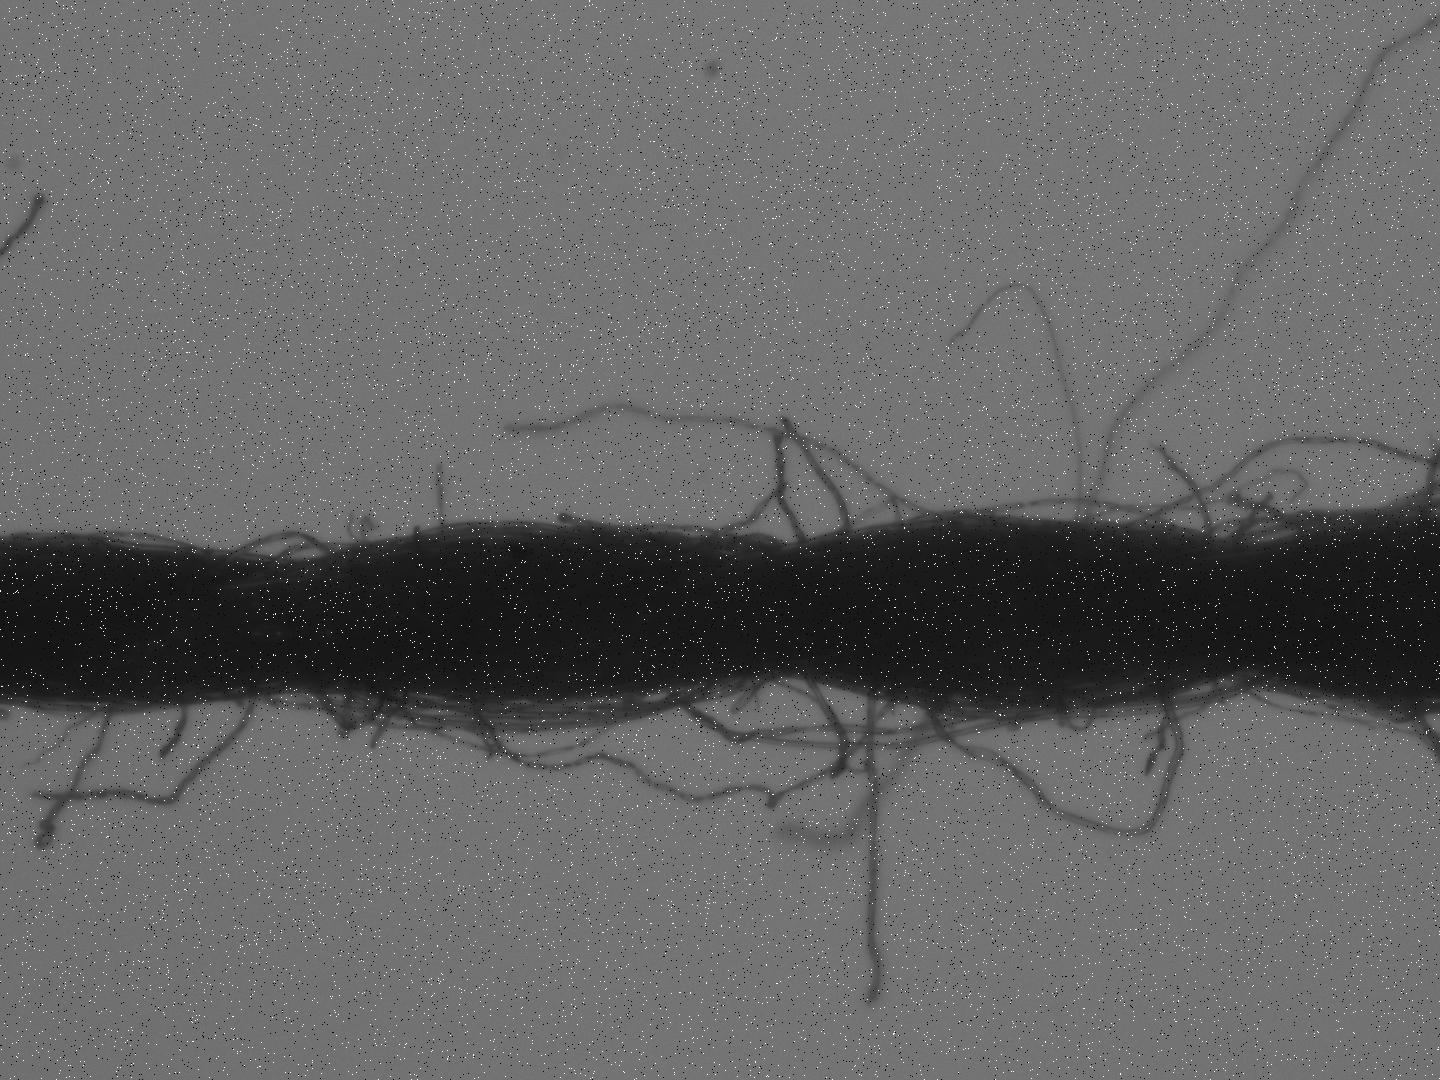loop_fiber: (469, 681, 849, 810), (691, 677, 1267, 751), (927, 687, 1188, 839), (265, 678, 729, 736), (685, 680, 990, 743), (397, 689, 639, 763), (1214, 506, 1411, 548), (982, 496, 1188, 533), (231, 530, 337, 564), (317, 686, 390, 735), (1239, 513, 1308, 552), (281, 541, 367, 566)
protruding_fiber: (1075, 14, 1440, 525), (503, 402, 948, 523), (32, 693, 262, 807), (35, 714, 112, 852), (782, 415, 856, 539), (862, 695, 882, 1009), (1162, 448, 1217, 547), (772, 428, 808, 549), (158, 709, 192, 756), (435, 464, 448, 523)
